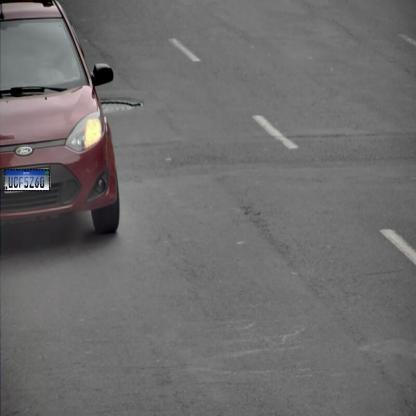PlacaM: (4, 170, 50, 192)
